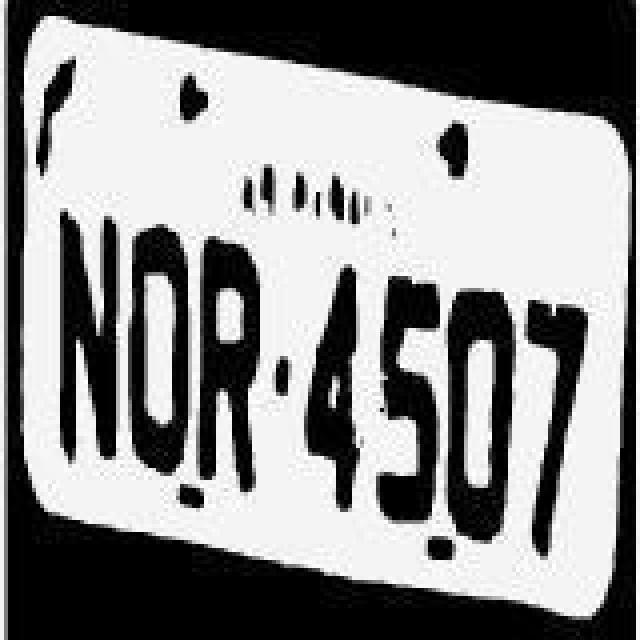4: (298, 258, 366, 526)
5: (370, 268, 446, 532)
7: (514, 268, 590, 564)
N: (50, 210, 126, 486)
O: (444, 264, 516, 544), (124, 212, 196, 476)
R: (196, 222, 276, 498)
